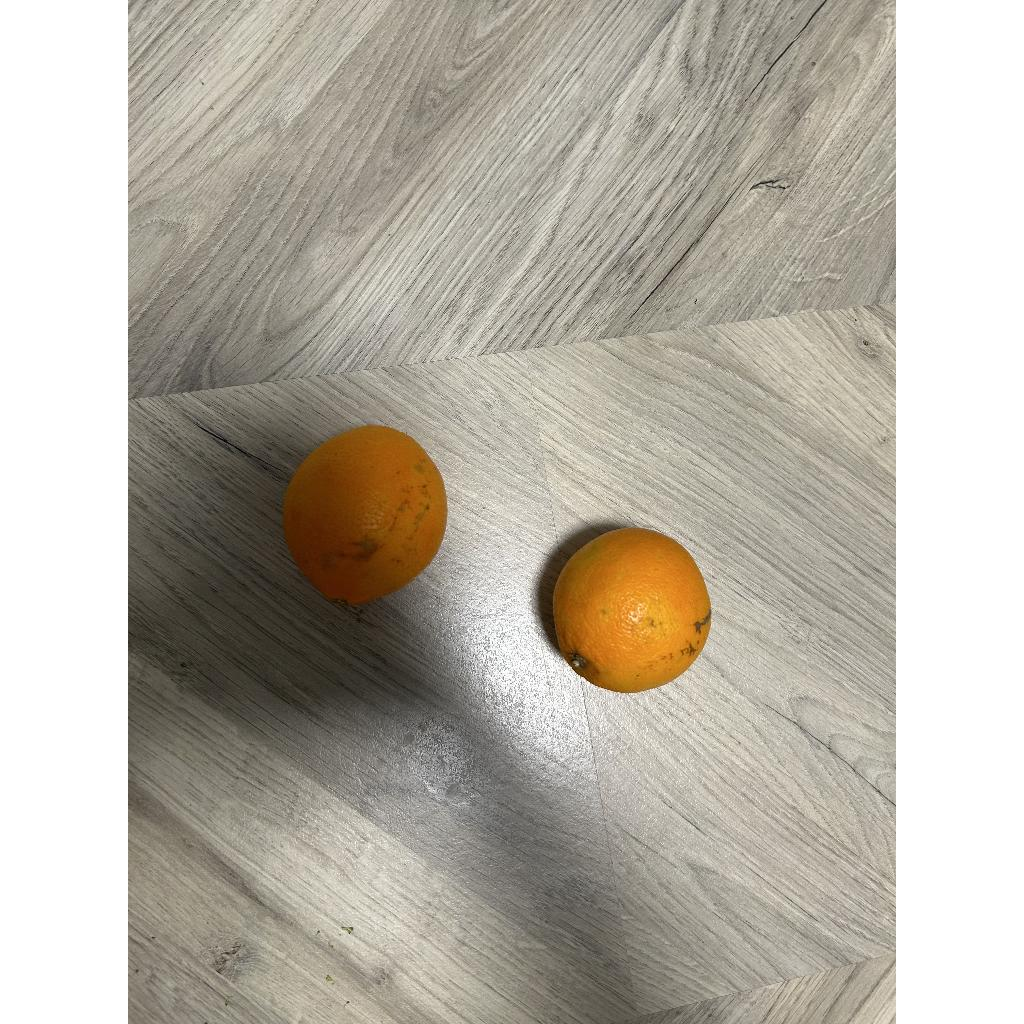orange: (284, 426, 446, 604), (554, 528, 712, 692)
